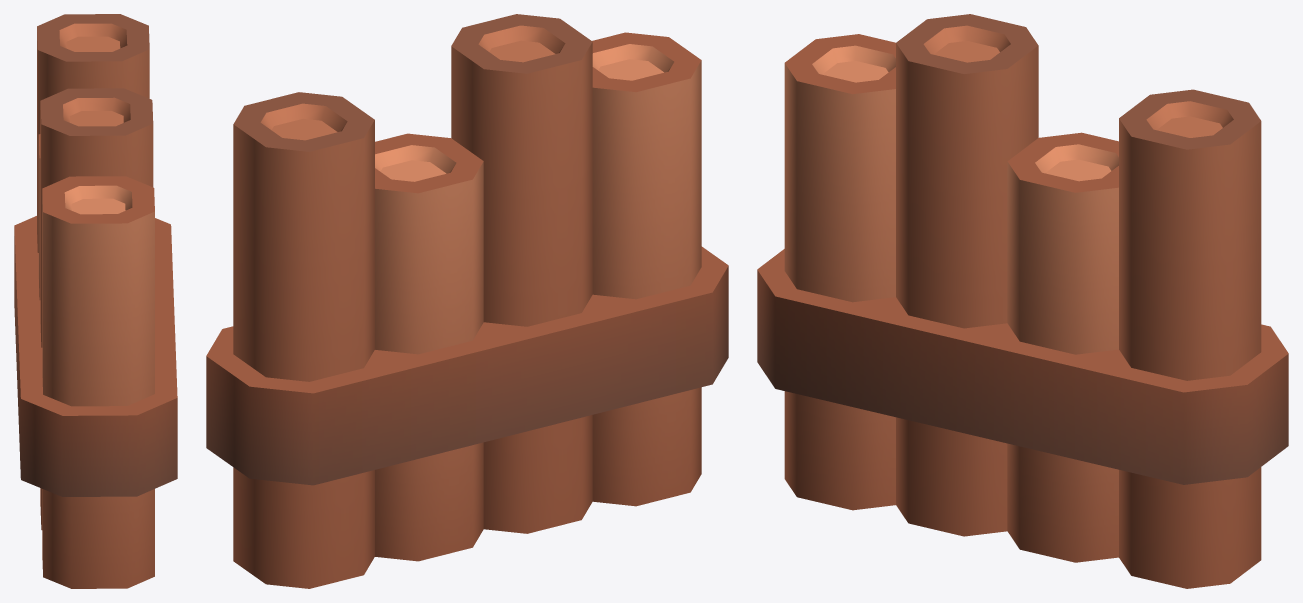
The model's file is n5_n5_poles_lev5.003.glb.
3 renders of one model, left to right at view 1: azimuth 30°, elevation 25°; view 2: azimuth 150°, elevation 25°; view 3: azimuth 270°, elevation 25°, orthographic. The views are drawn at different scales.
Visible parts, largest first — view 1: n5_n5_poles_lev5.003; view 2: n5_n5_poles_lev5.003; view 3: n5_n5_poles_lev5.003.
Boxes of the visible parts, box(x1,y1,x2,y2) form: n5_n5_poles_lev5.003: box(14, 14, 177, 588); n5_n5_poles_lev5.003: box(206, 14, 728, 588); n5_n5_poles_lev5.003: box(757, 14, 1288, 588).
Bounding box in the file's own units: 3.73 × 4.96 × 5.17.
1 material, 1 textured.
